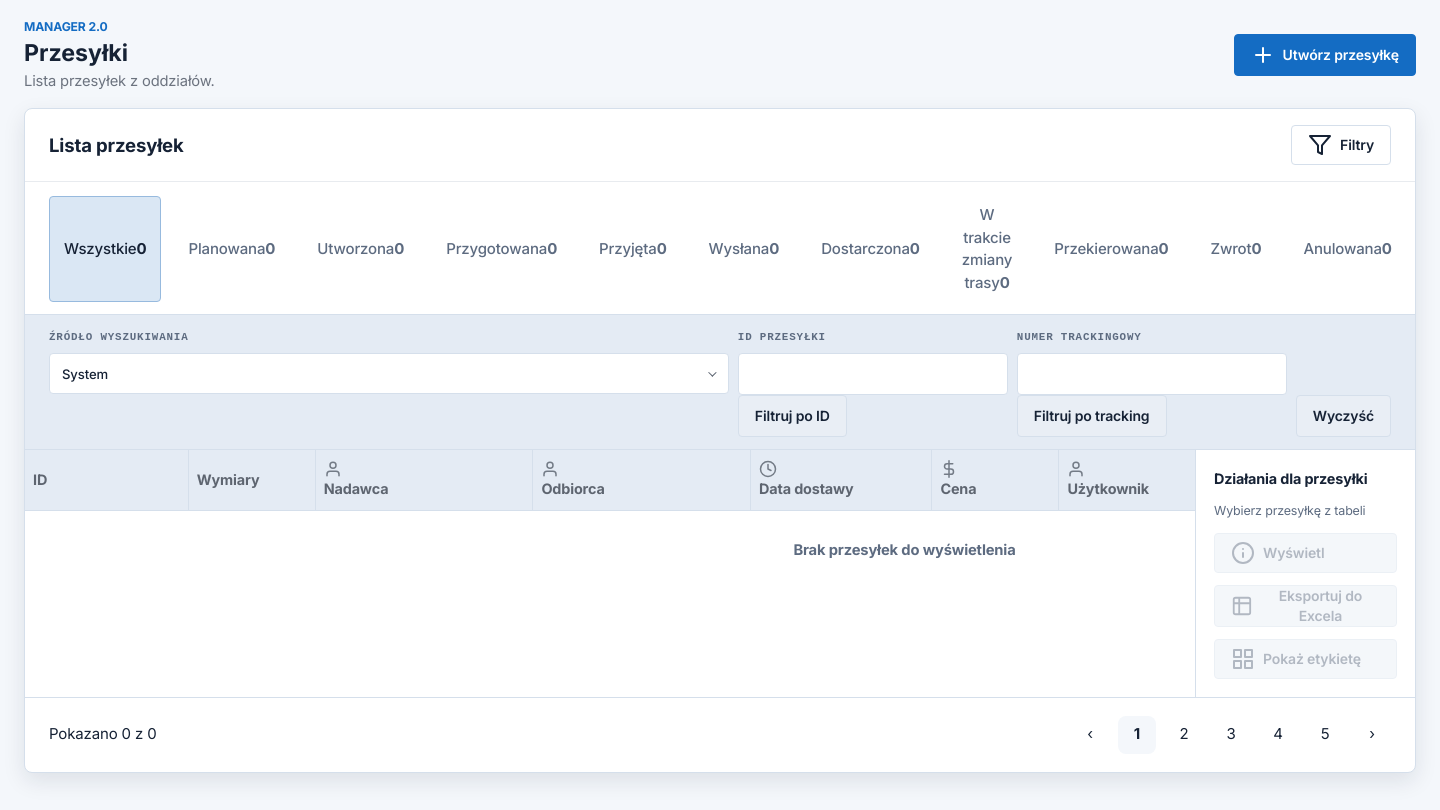
Test: external tracking search › sends advanced filters to the shipment read model search
Click the button "Filtry" at (1341, 145), box [1291, 125, 1391, 165]
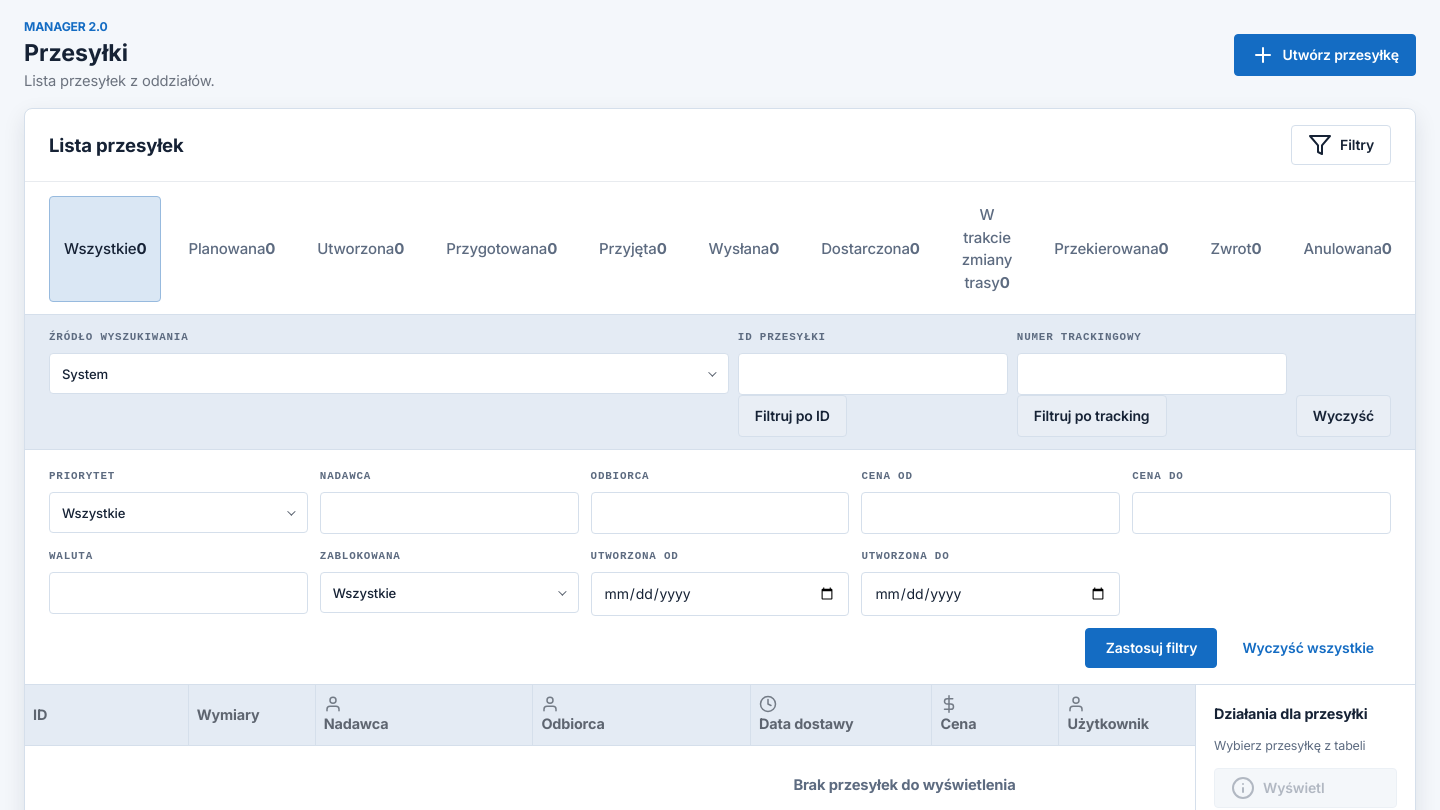
Type "Anna Nowak" into the field labelled "Nadawca" at (449, 513), box [320, 492, 579, 534]
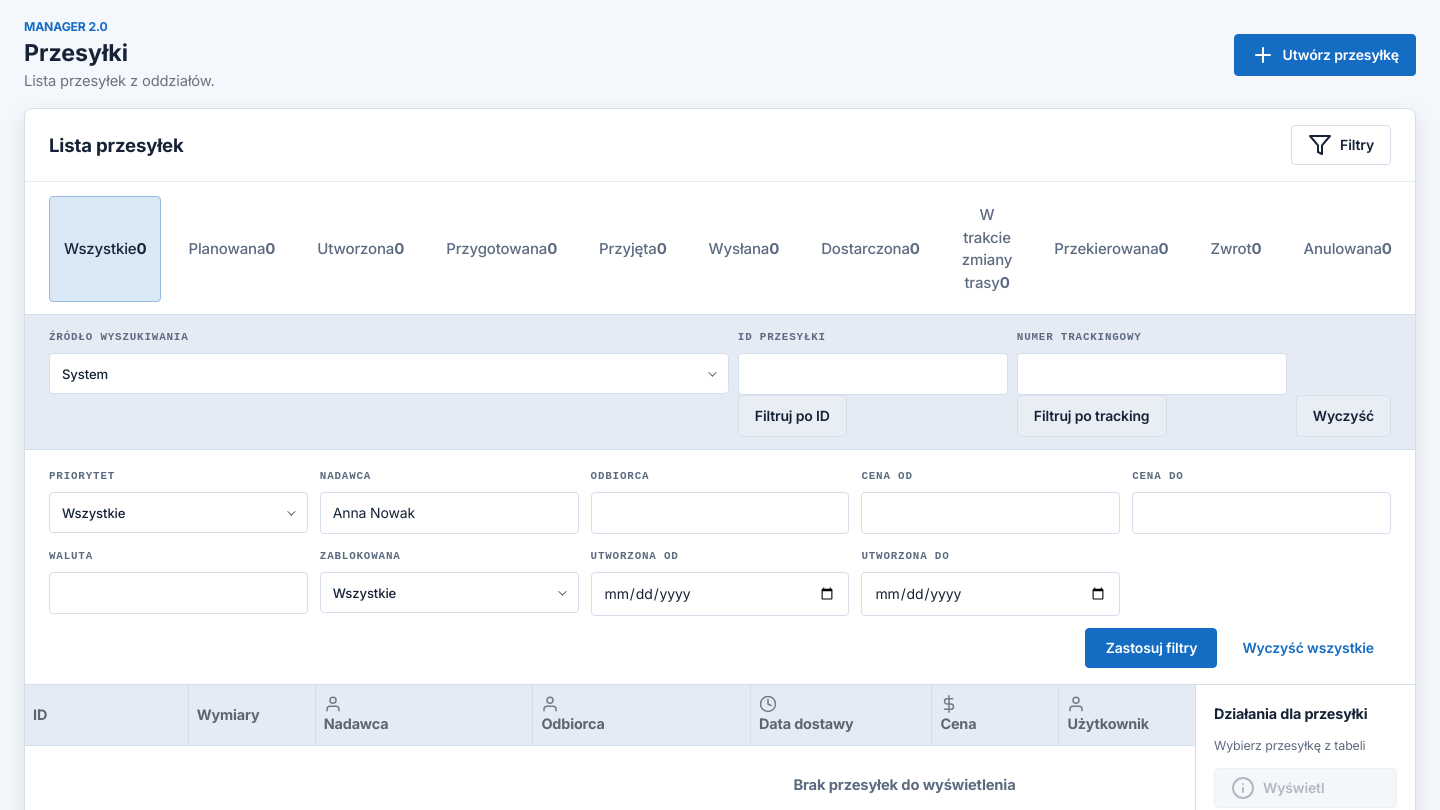
Type "25.50" into the number field labelled "Cena od" at (991, 513), box [861, 492, 1120, 534]
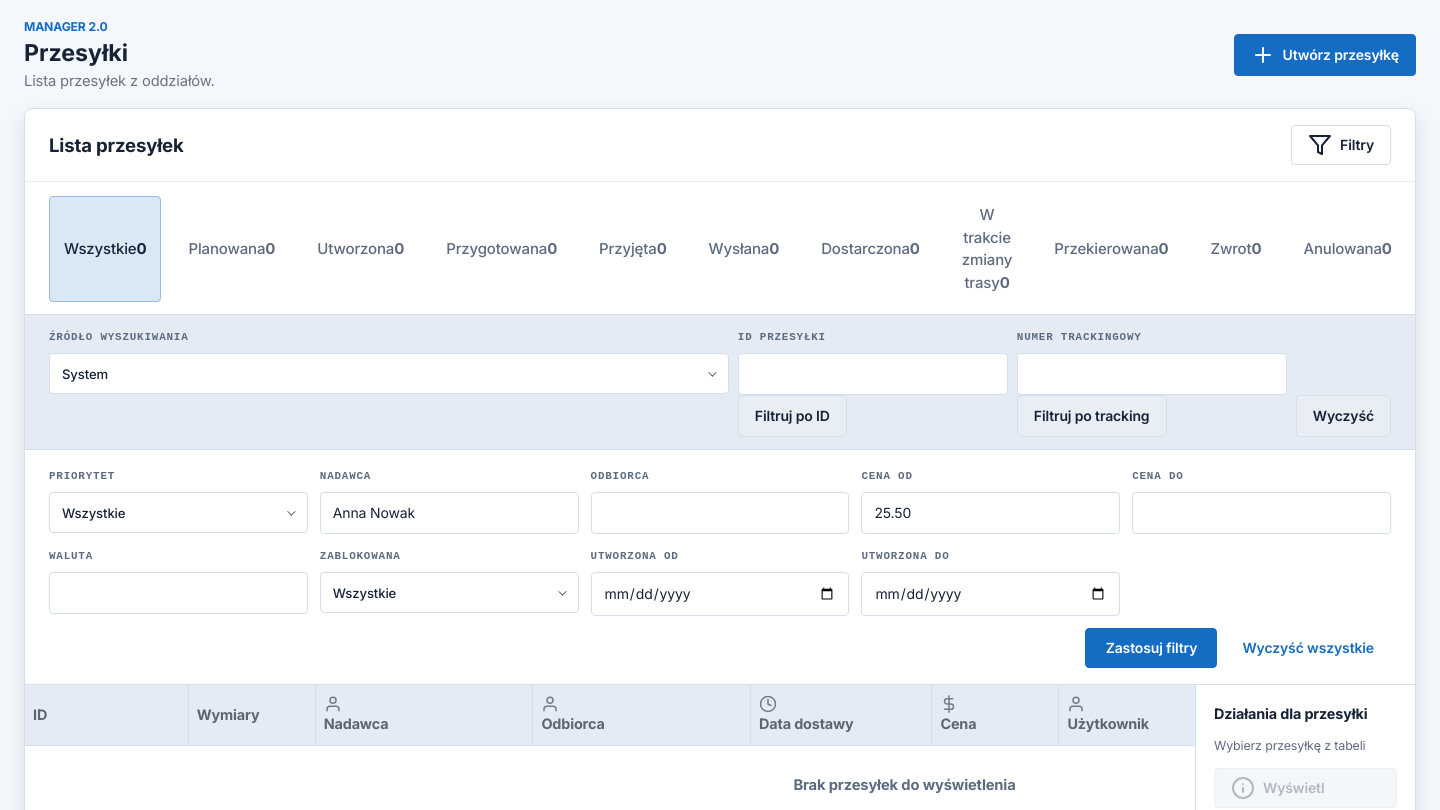
Click the button "Zastosuj filtry" at (1152, 648), box [1086, 628, 1218, 668]
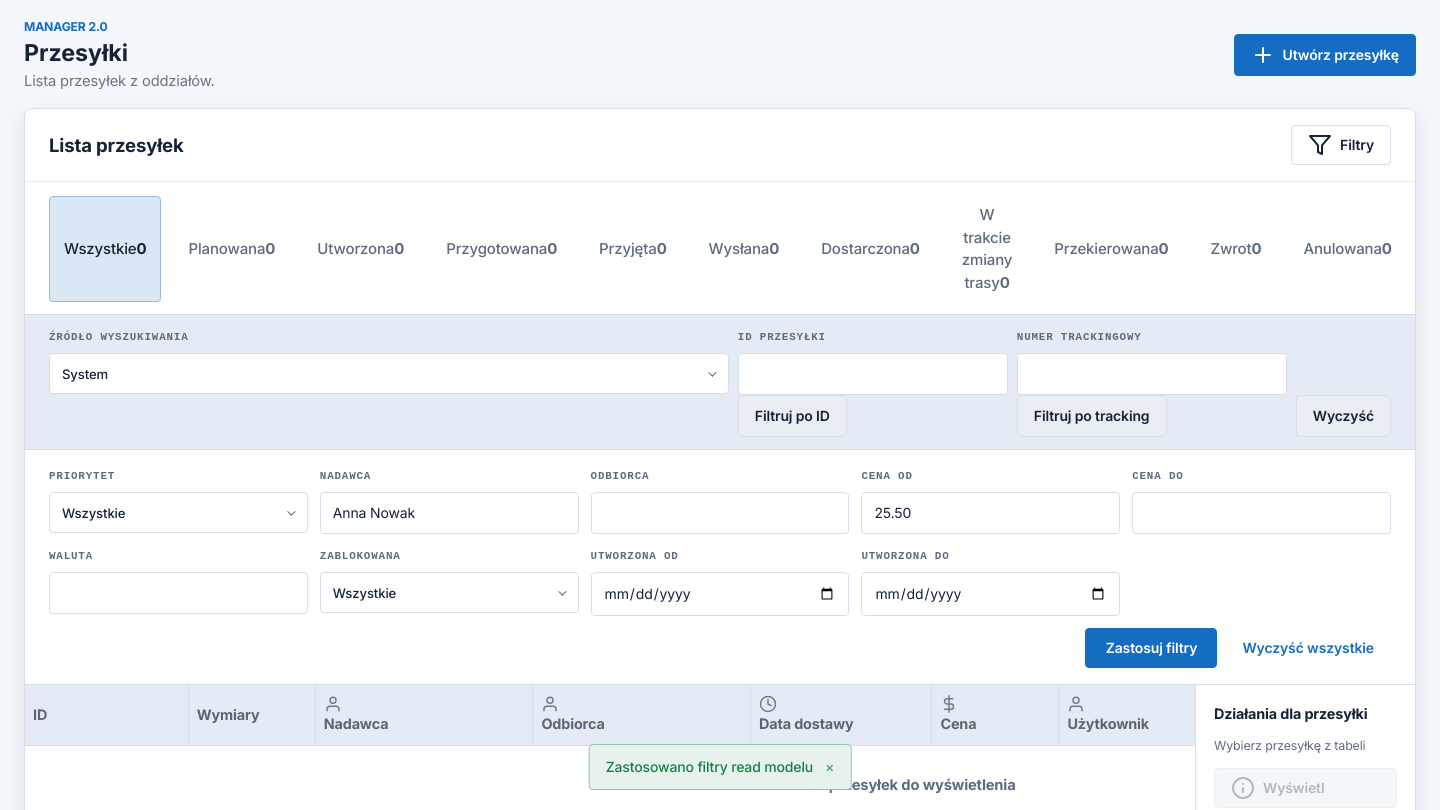
Check: the text "Zastosowano filtry read modelu" is shown, box [606, 757, 813, 777]
